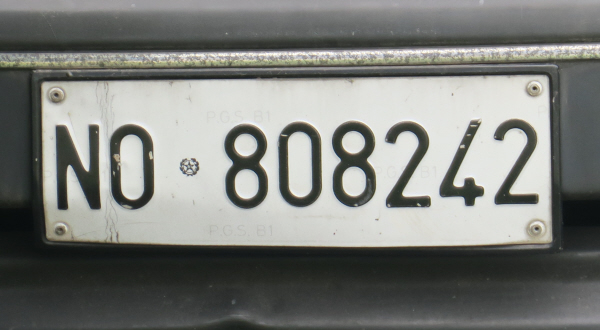license_plate: (40, 71, 551, 247)
